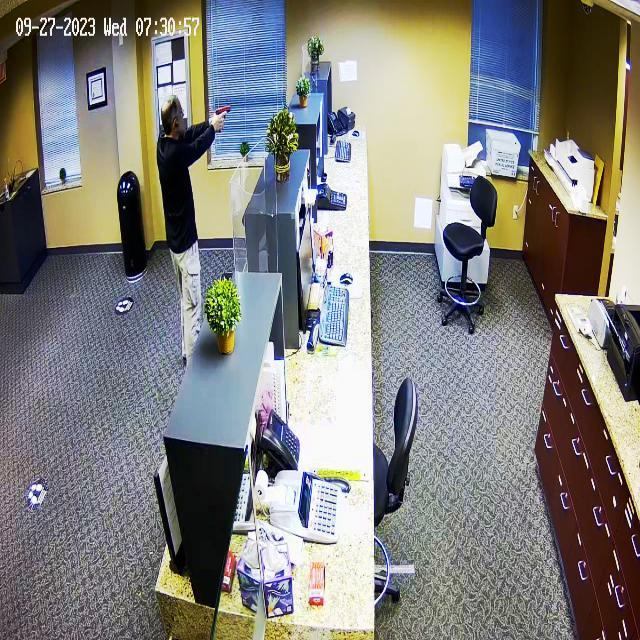Gun: (212, 98, 242, 130)
